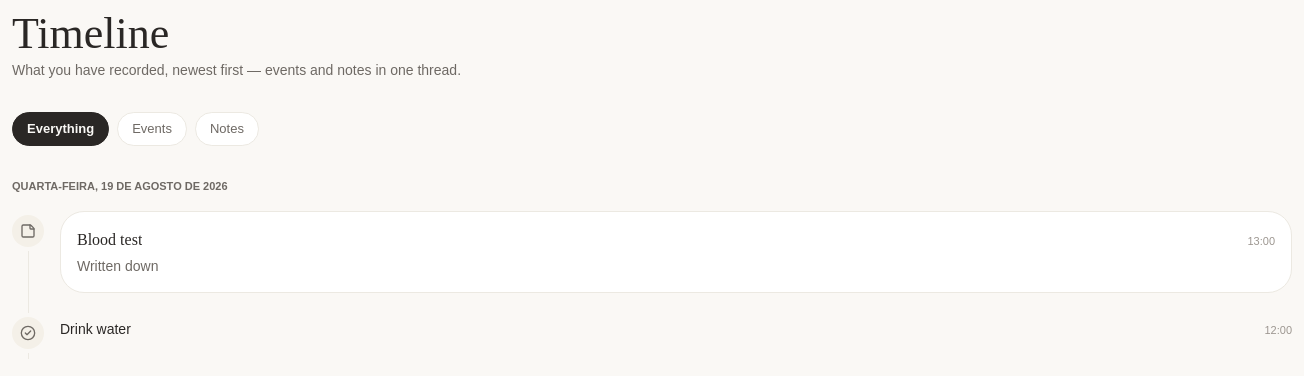
Test: TimelinePage › restricts the feed to one source through the request
This screenshot has width=1304, height=376.
Expected: the text "Blood test" is shown, [77,228,142,252]
What coordinates should you click on to do the following:
click the button "Notes"
I would click on:
 (227, 129)
Its box is [195,112,259,146].
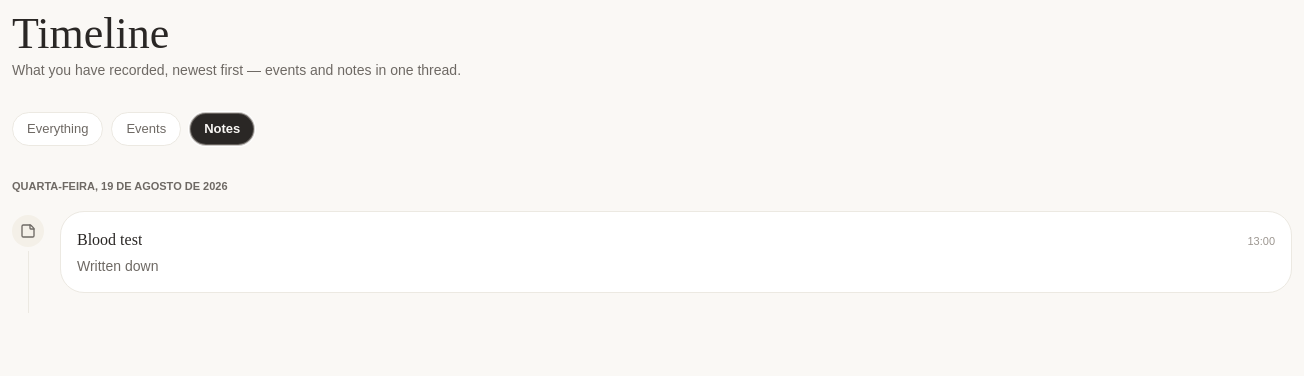
Expected: the text "Blood test" is shown, [77,228,142,252]
Expected: the text "Drink water" is gone
